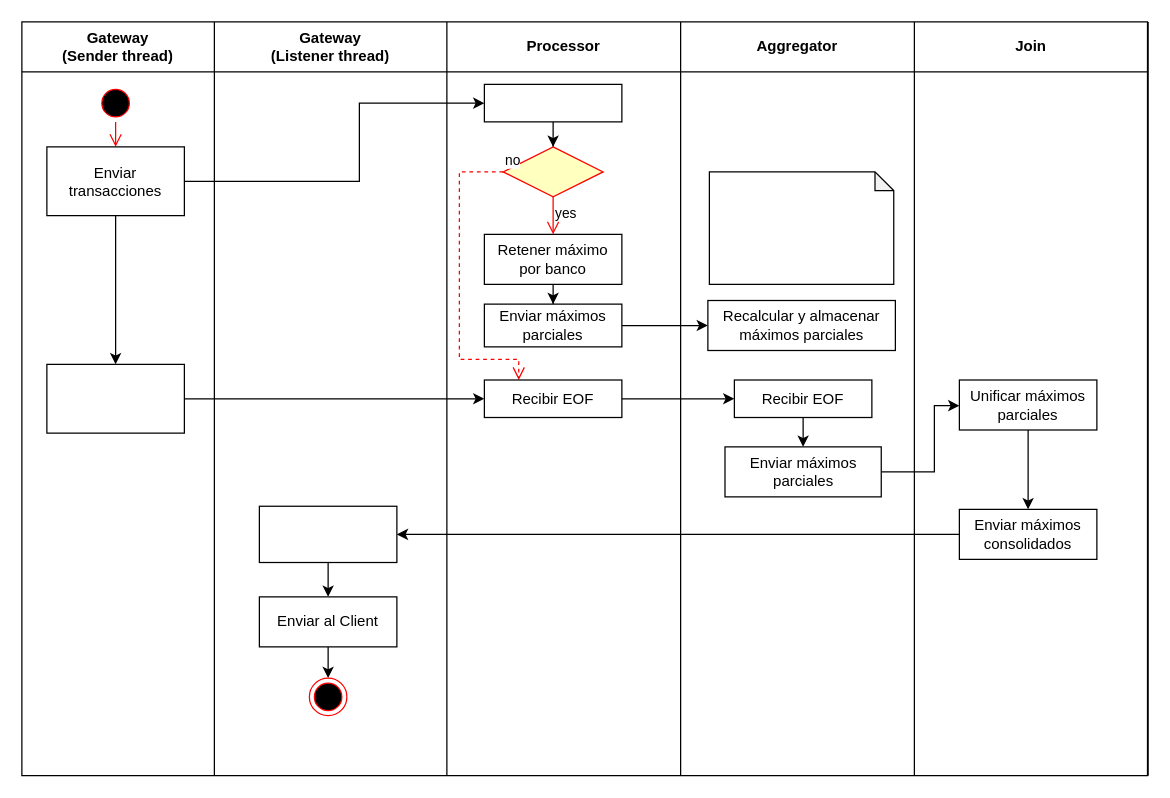
The diagram is 1170 pixels wide and 798 high, and some of its shapes have lost their labels. The shapes that lost their labels are listed below. From the top down, each one's centre as x and y in pixels, then its label:
the point at 552,102: Recibir transacción
the point at 552,171: Cumple filtro?
the point at 801,227: Se recalcula por cada nodo de procesamiento que envía máximos parciales
the point at 115,398: Enviar EOF
the point at 327,533: Recibir máximos por banco
